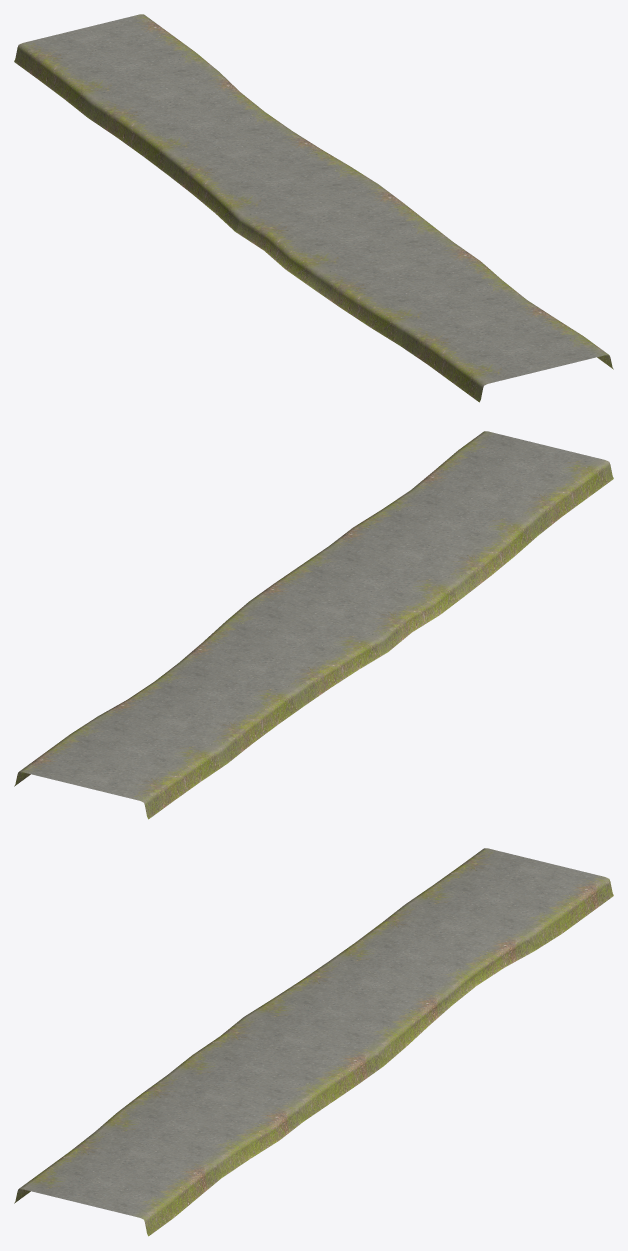
File: SM_road_dirt_straight.fbx
The picture shows the model from 3 angles, top to bottom: view 1: azimuth 30°, elevation 25°; view 2: azimuth 150°, elevation 25°; view 3: azimuth 330°, elevation 25°; orthographic projection.
Parts seen in each view (by area): view 1: Plane011; view 2: Plane011; view 3: Plane011.
Part boxes in pixels (x1,y1,x2,y2): Plane011: (14,14,613,402); Plane011: (14,431,613,819); Plane011: (14,848,613,1236).
Bounding box in the file's own units: 129 × 14.07 × 709.
